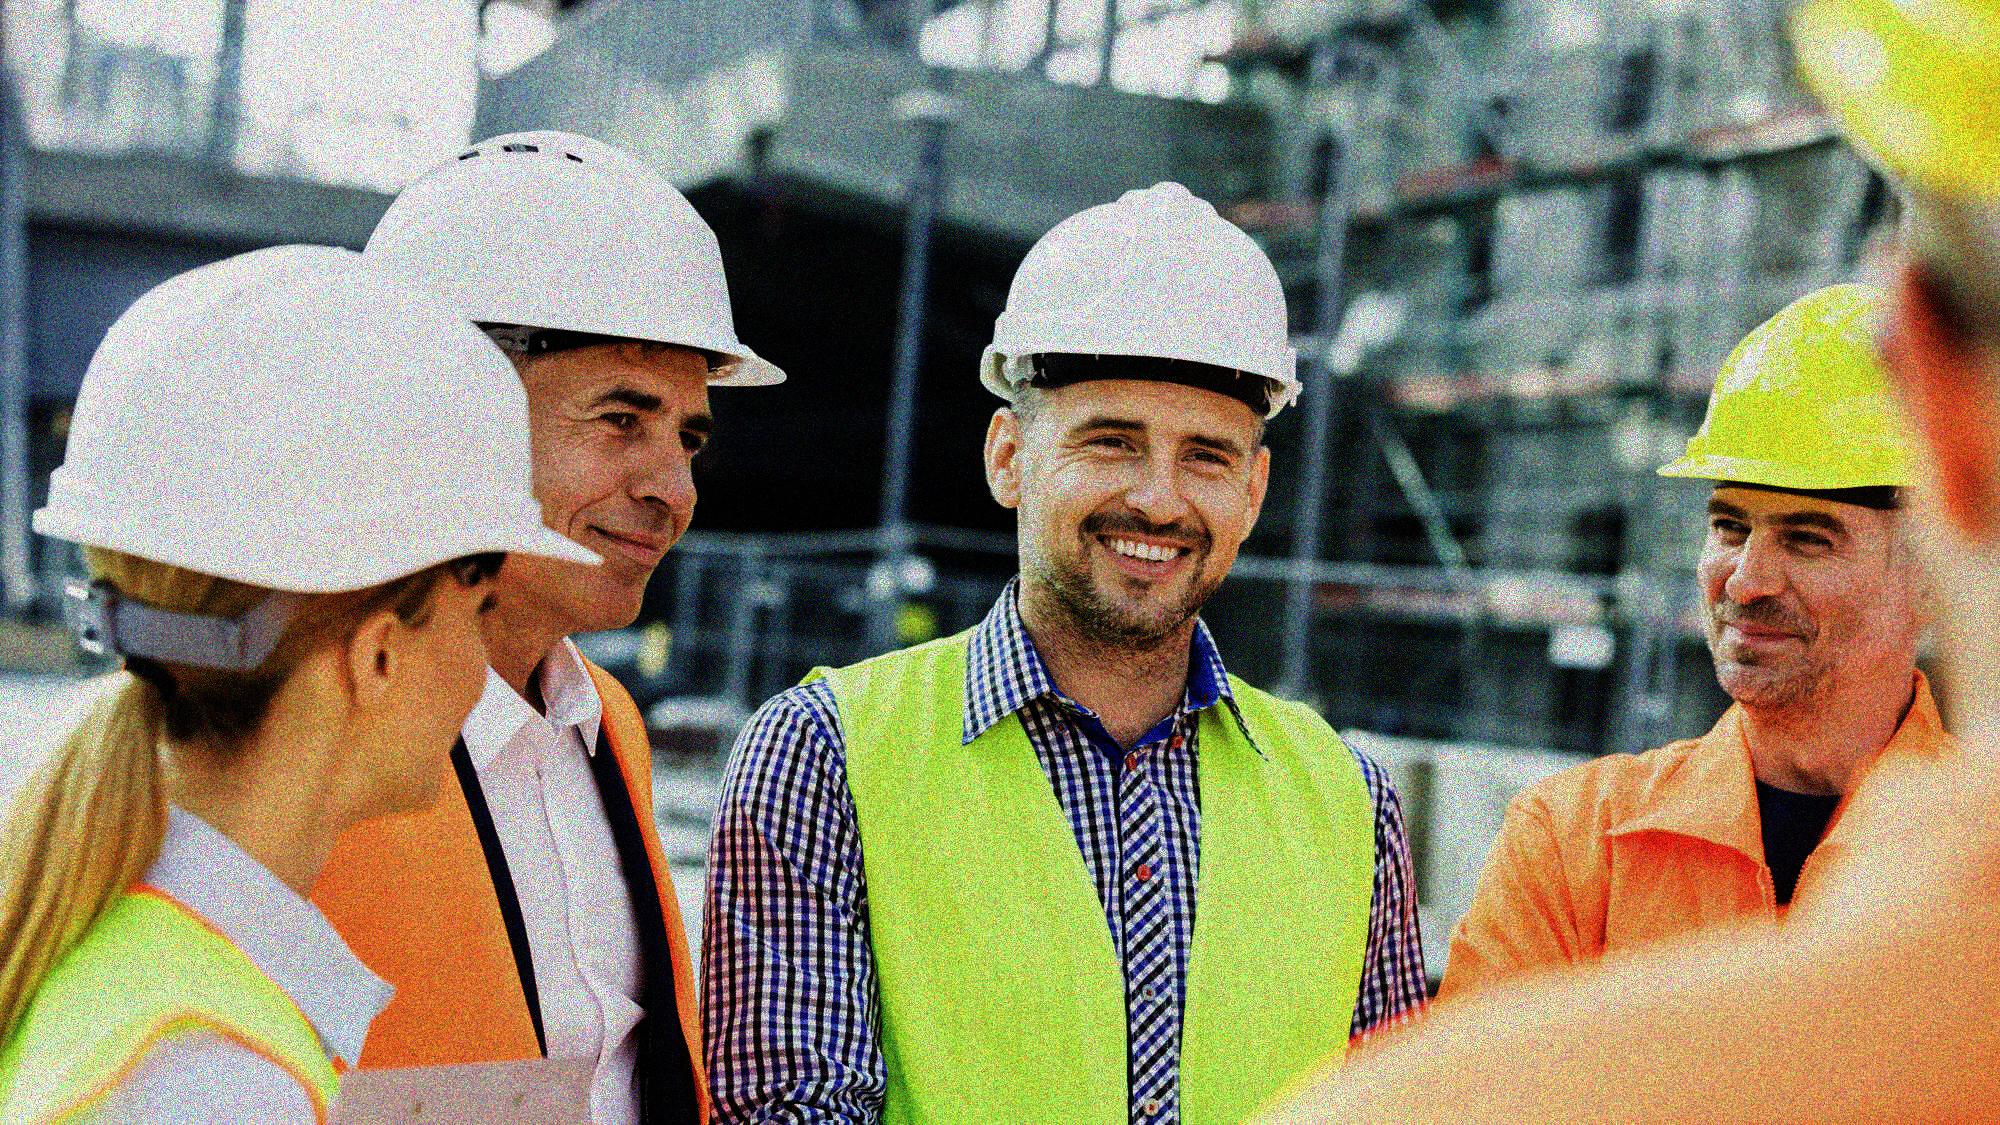helmet: (43, 235, 593, 821), (368, 135, 773, 626), (977, 174, 1306, 641), (1658, 279, 1956, 707), (1775, 5, 2000, 555)
